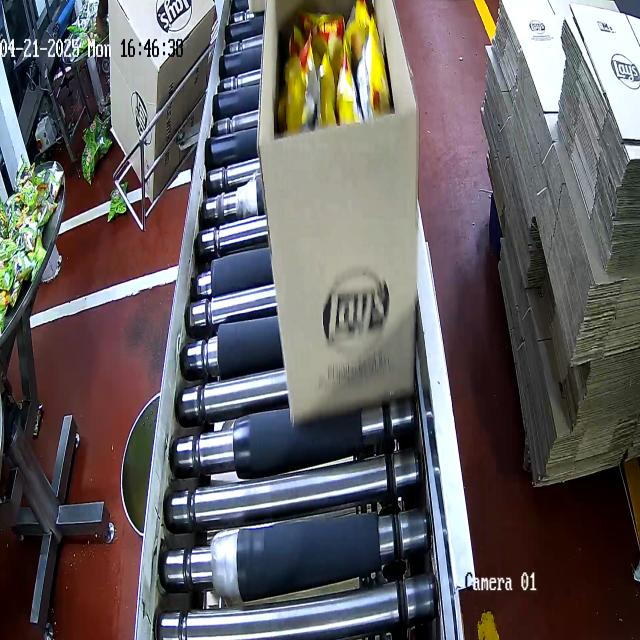SALTED: (273, 0, 394, 133)
